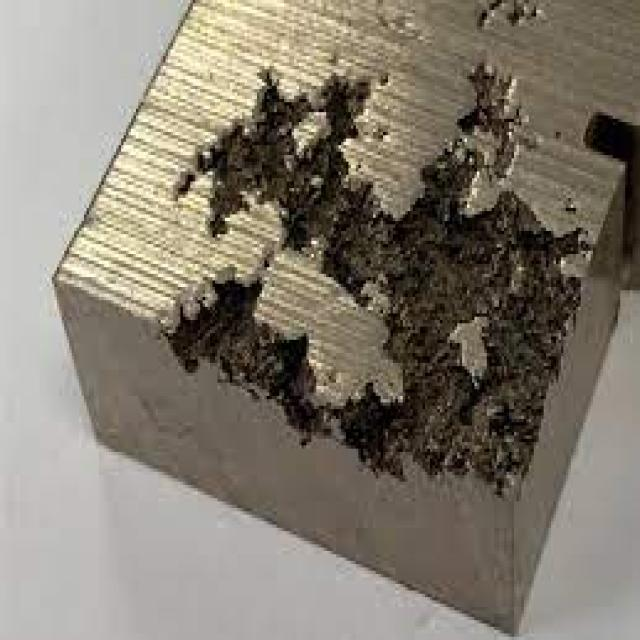Pitting Corrosion: (169, 63, 586, 492)
